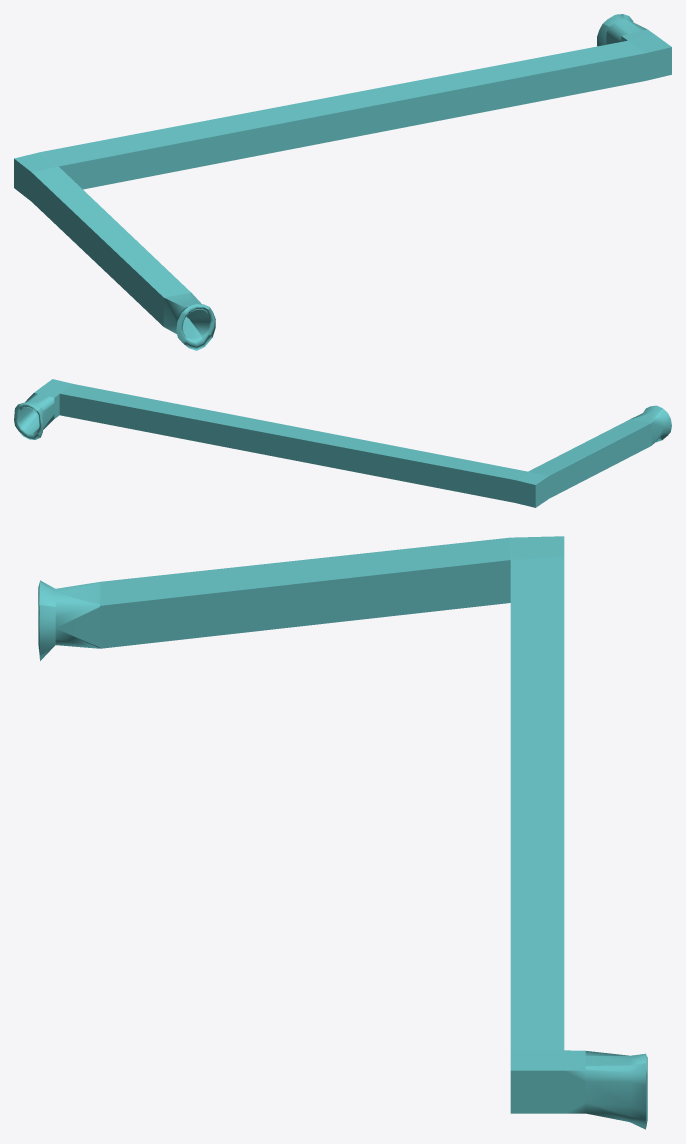
The model's file is SM_VentBathrooms_1.8.fbx.
3 views of the same model, one above another, from view 1: azimuth 30°, elevation 25°; view 2: azimuth 150°, elevation 25°; view 3: azimuth 270°, elevation 25° (orthographic). The views are drawn at different scales.
Parts seen in each view (by area): view 1: SM_VentBathrooms_1_8; view 2: SM_VentBathrooms_1_8; view 3: SM_VentBathrooms_1_8.
Boxes of the visible parts, x1,y1,x2,y2 form: SM_VentBathrooms_1_8: (14,14,671,350); SM_VentBathrooms_1_8: (14,379,671,507); SM_VentBathrooms_1_8: (38,536,647,1129).
Size of the model in its own units: 3189 by 350 by 1661.
